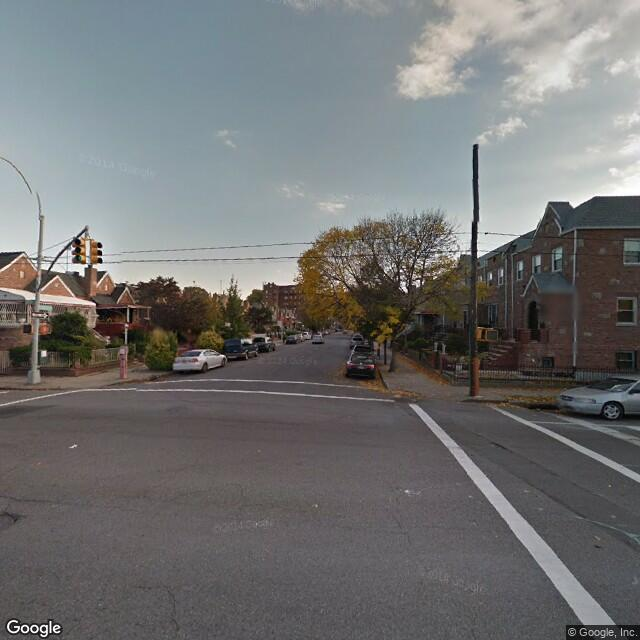litter: (404, 485, 424, 498), (68, 442, 80, 451)
